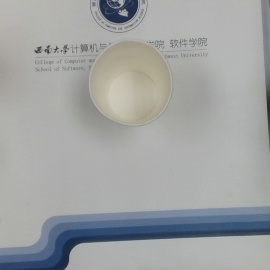cup: (88, 40, 173, 124)
